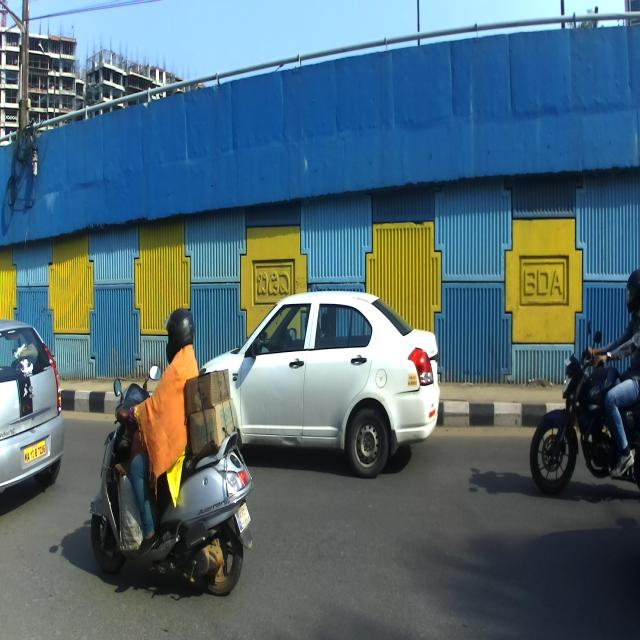car ahead at: (222, 289, 444, 485)
motorcycle ahead at: (89, 370, 260, 596), (526, 321, 615, 488)
